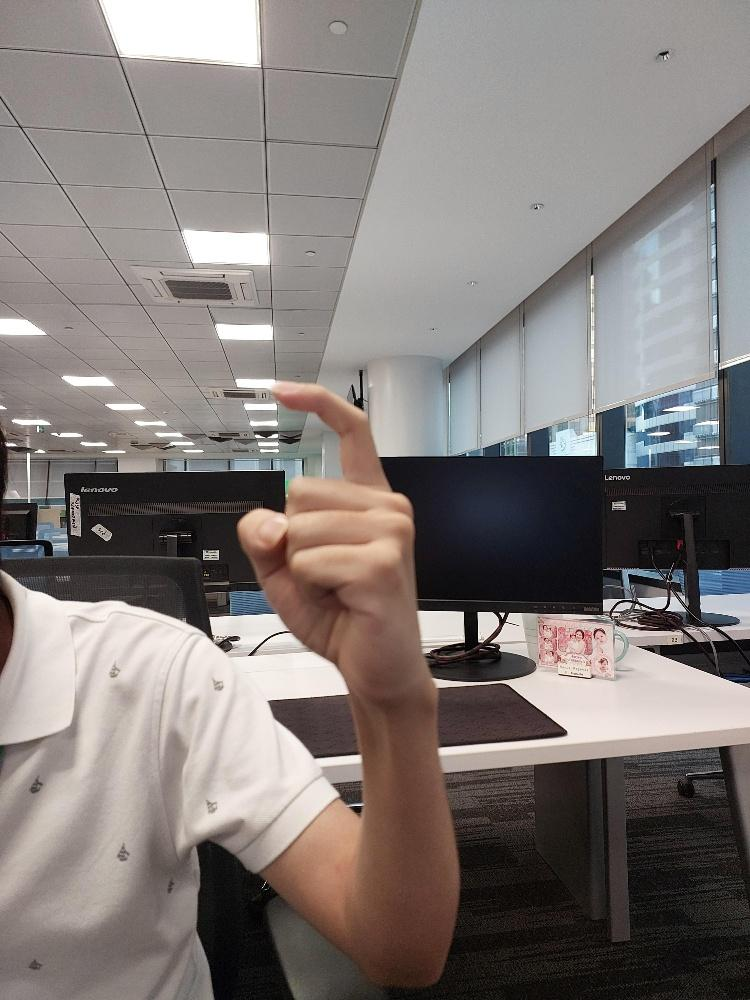x: (234, 371, 429, 701)
